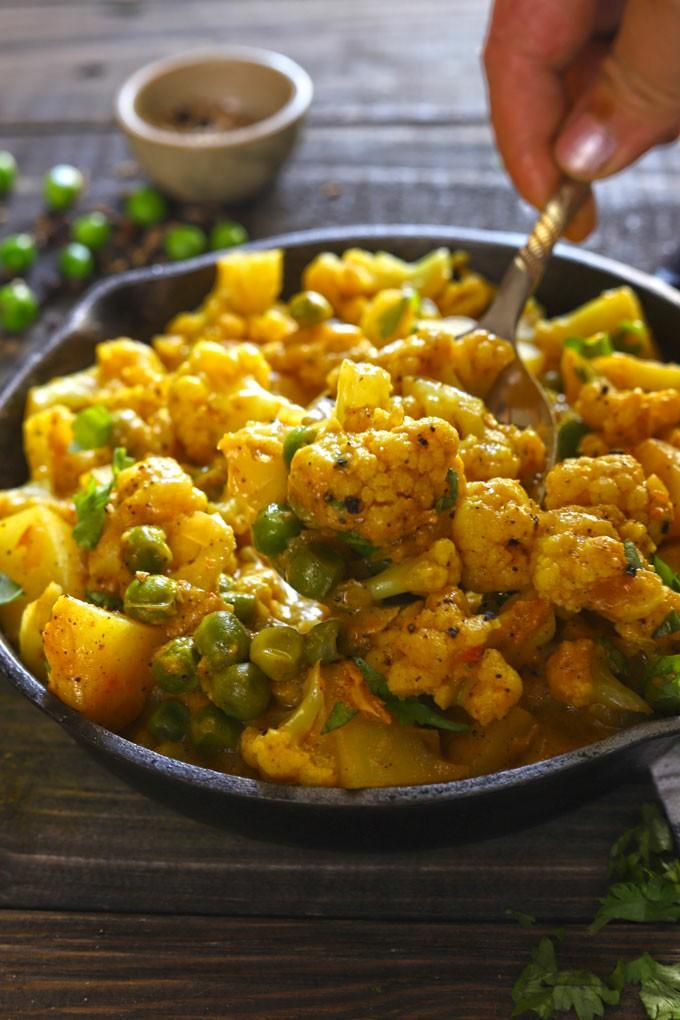AlooGobi: (3, 246, 680, 789)
